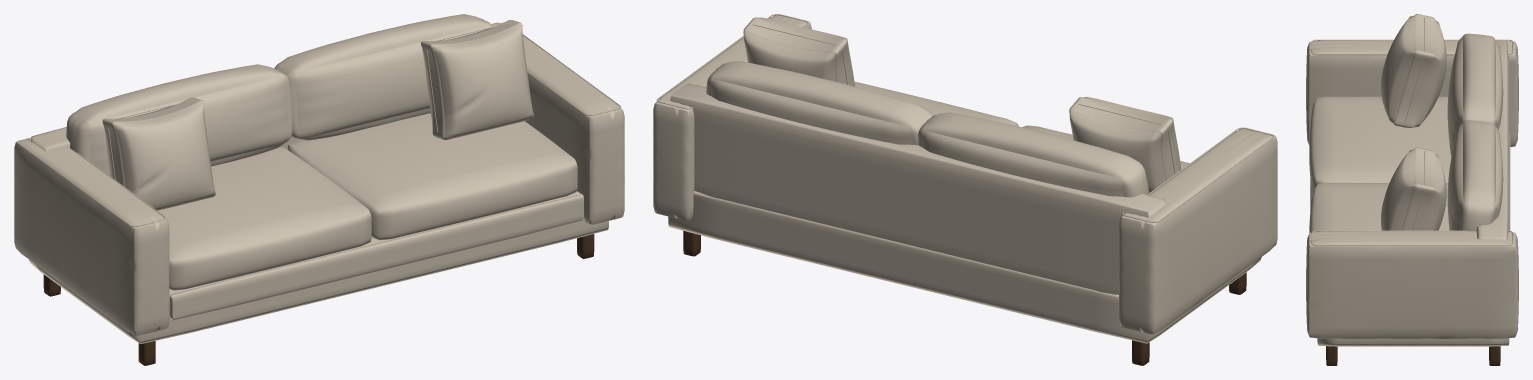
Rendered from sofa_sand_mobile.glb.
3 views of the same model, side by side, from view 1: azimuth 30°, elevation 25°; view 2: azimuth 150°, elevation 25°; view 3: azimuth 270°, elevation 25° (orthographic). The views are drawn at different scales.
Parts seen in each view (by area): view 1: seat_cushion_2, arm_left, seat_cushion_1, back_cushion_2, back_cushion_1, front_apron, arm_right, loose_pillow_2, loose_pillow_1, upholstered_plinth, rear_frame, arm_upper_welt; view 2: rear_frame, arm_left, upholstered_plinth, back_cushion_1, back_cushion_2, arm_right, loose_pillow_1, loose_pillow_2, seat_cushion_2, arm_upper_welt; view 3: arm_right, seat_cushion_1, arm_left, loose_pillow_1, back_cushion_2, back_cushion_1, loose_pillow_2, seat_cushion_2, rear_frame, upholstered_plinth, arm_upper_welt (×2), walnut_foot (×2).
Boxes of the visible parts, x1,y1,x2,y2 form: seat_cushion_2: (287,113,577,240); arm_left: (14,137,169,335); seat_cushion_1: (157,146,371,290); back_cushion_2: (274,14,493,140); back_cushion_1: (66,64,292,176); front_apron: (169,194,583,319); arm_right: (523,35,624,224); loose_pillow_2: (421,20,534,140); loose_pillow_1: (102,97,215,210); upholstered_plinth: (29,191,608,343); rear_frame: (30,22,505,152); arm_upper_welt: (17,137,165,226); rear_frame: (670,83,1165,294); arm_left: (1119,127,1277,334); upholstered_plinth: (668,191,1261,343); back_cushion_1: (918,112,1148,197); back_cushion_2: (706,61,932,145); arm_right: (653,15,811,220); loose_pillow_1: (1069,97,1181,192); loose_pillow_2: (743,17,854,86); seat_cushion_2: (854,81,1018,126); arm_upper_welt: (1122,127,1273,222); arm_right: (1306,231,1518,339); seat_cushion_1: (1309,96,1451,194); arm_left: (1306,40,1518,146); loose_pillow_1: (1381,14,1446,127); back_cushion_2: (1447,120,1503,230); back_cushion_1: (1447,33,1503,156); loose_pillow_2: (1381,147,1446,230); seat_cushion_2: (1309,183,1449,232); rear_frame: (1476,39,1509,240); upholstered_plinth: (1317,127,1510,346); arm_upper_welt (×2): (1311,39,1513,245); walnut_foot (×2): (1326,346,1500,365).
Size of the model in its own units: 2.2 by 0.85 by 0.95.
Materials: 3 (1 with a texture image).
